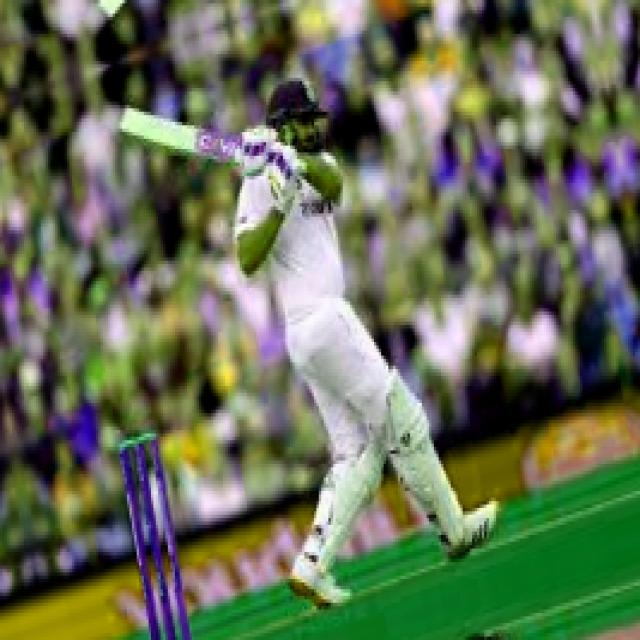toe: (118, 96, 141, 148)
